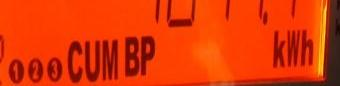.: (270, 28, 317, 70)
0: (261, 10, 271, 25)
